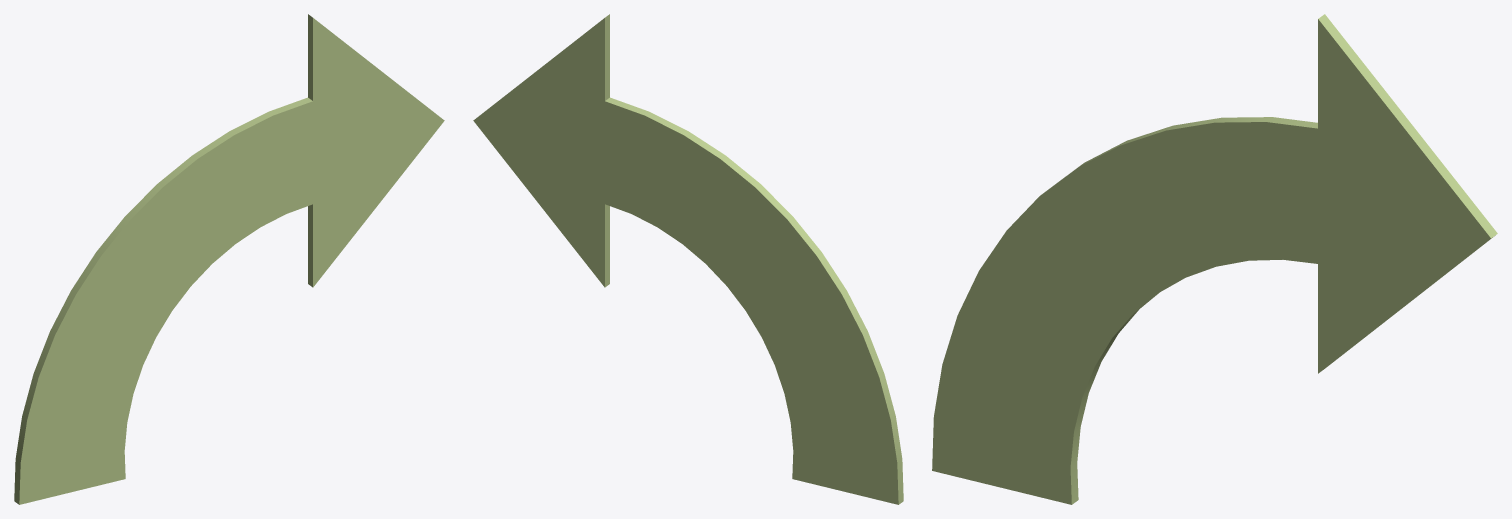
File: GreenCArrow.obj
3 renders of one model, left to right at view 1: azimuth 30°, elevation 25°; view 2: azimuth 150°, elevation 25°; view 3: azimuth 330°, elevation 25°, orthographic. The views are drawn at different scales.
Visible parts, largest first — view 1: Mesh1 Model; view 2: Mesh1 Model; view 3: Mesh1 Model.
Part boxes in pixels (x1,y1,x2,y2): Mesh1 Model: (14, 14, 444, 504); Mesh1 Model: (473, 14, 903, 504); Mesh1 Model: (932, 14, 1497, 504).
Bounding box in the file's own units: 0.1667 × 0.1556 × 0.00347.
